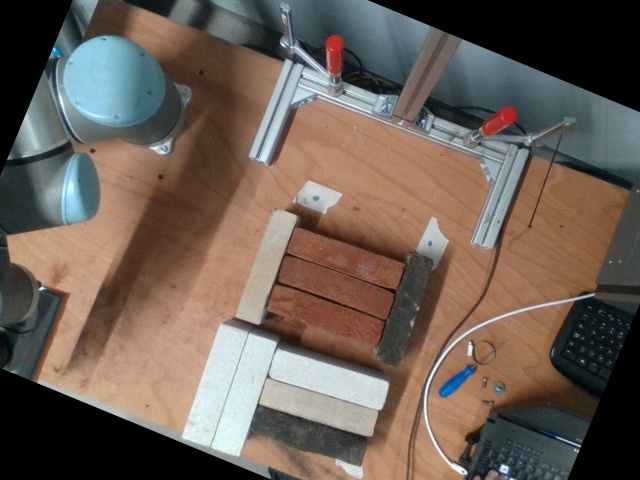brick-side: (234, 208, 299, 326), (265, 284, 385, 347), (183, 325, 246, 444), (212, 336, 275, 455), (277, 256, 396, 319), (287, 227, 406, 290), (269, 350, 389, 410), (248, 407, 367, 467), (373, 252, 435, 367), (258, 377, 378, 436)
